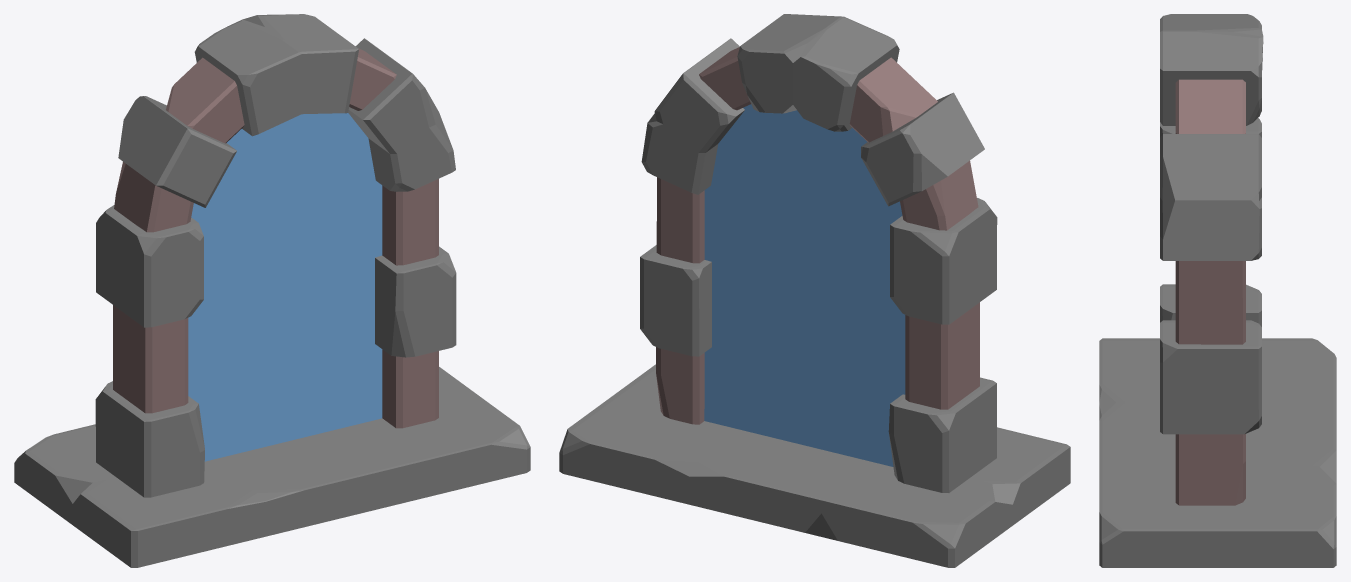
Rendered from PortalAT.fbx.
3 views of the same model, side by side, from view 1: azimuth 30°, elevation 25°; view 2: azimuth 150°, elevation 25°; view 3: azimuth 270°, elevation 25° (orthographic).
Parts seen in each view (by area): view 1: Portal; view 2: Portal; view 3: Portal.
Part boxes in pixels (bbox=[...]): Portal: bbox=[14, 14, 530, 567]; Portal: bbox=[559, 14, 1070, 567]; Portal: bbox=[1099, 14, 1336, 567].
Size of the model in its own units: 385 by 409 by 200.
